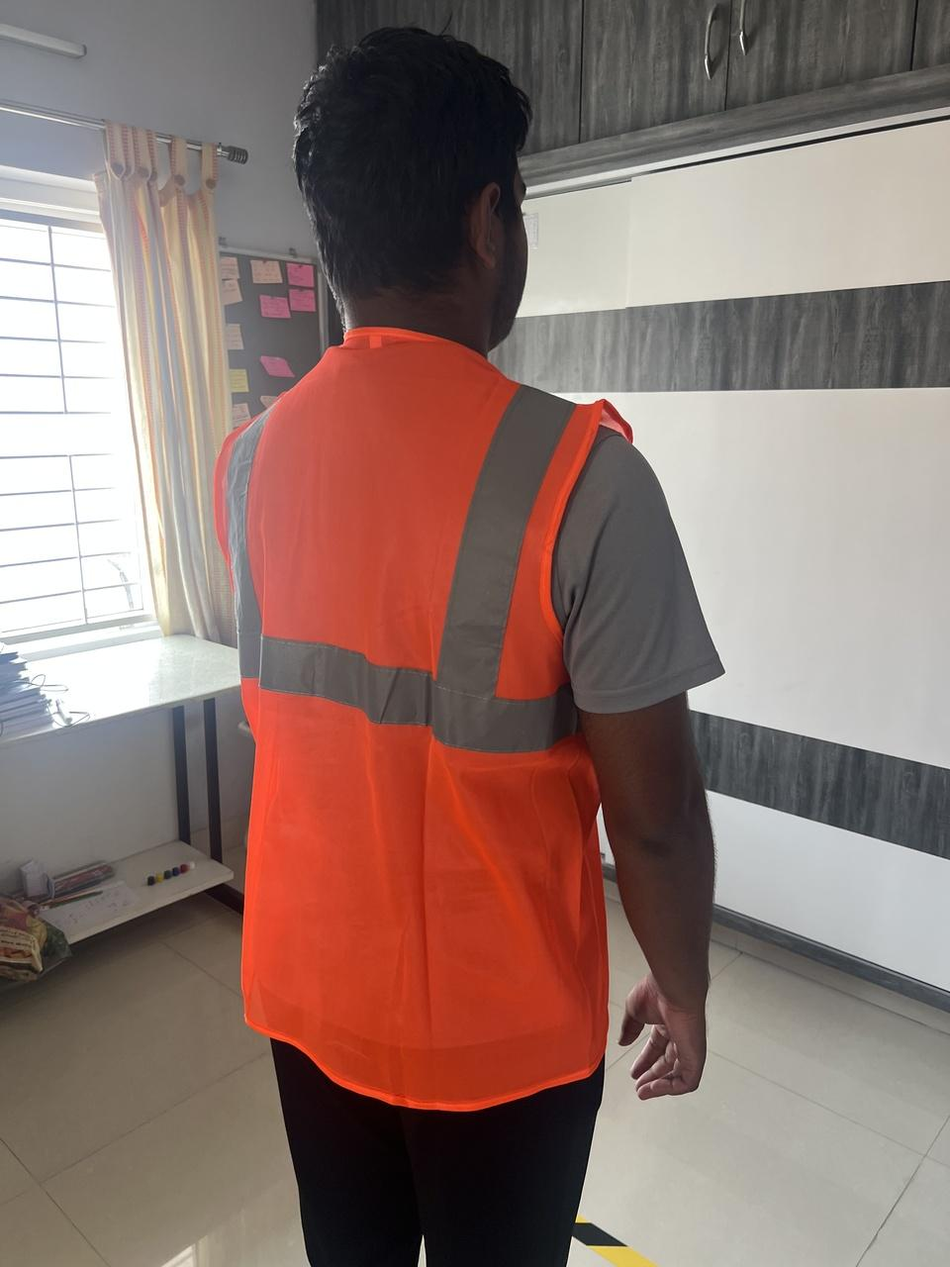BorderLine: (573, 1217, 657, 1267)
No_Helmet: (292, 24, 533, 353)
Person: (212, 24, 725, 1267)
Vest: (214, 326, 633, 1112)
